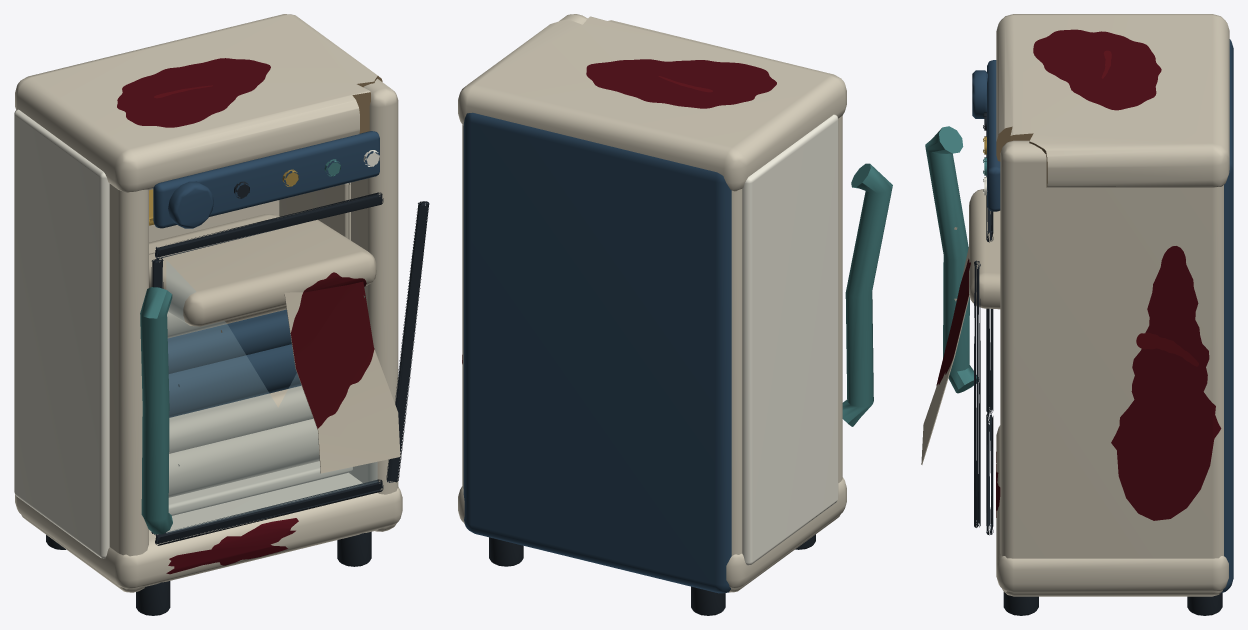
The model's file is thermanest.glb.
The picture shows the model from 3 angles, left to right: view 1: azimuth 30°, elevation 25°; view 2: azimuth 150°, elevation 25°; view 3: azimuth 270°, elevation 25°; orthographic projection. The views are drawn at different scales.
Parts seen in each view (by area): view 1: Outbreak_ThermaNest_standard_Static; view 2: Outbreak_ThermaNest_standard_Static; view 3: Outbreak_ThermaNest_standard_Static.
Boxes of the visible parts, bbox=[...] form: Outbreak_ThermaNest_standard_Static: bbox=[14, 14, 429, 615]; Outbreak_ThermaNest_standard_Static: bbox=[458, 14, 892, 615]; Outbreak_ThermaNest_standard_Static: bbox=[921, 14, 1233, 615].
Size of the model in its own units: 0.8586 by 1.26 by 0.7427.
